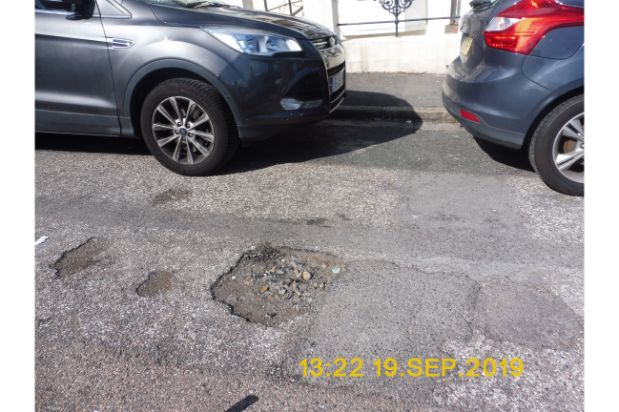pothole: (208, 240, 343, 327), (46, 234, 114, 279), (133, 268, 178, 298)
